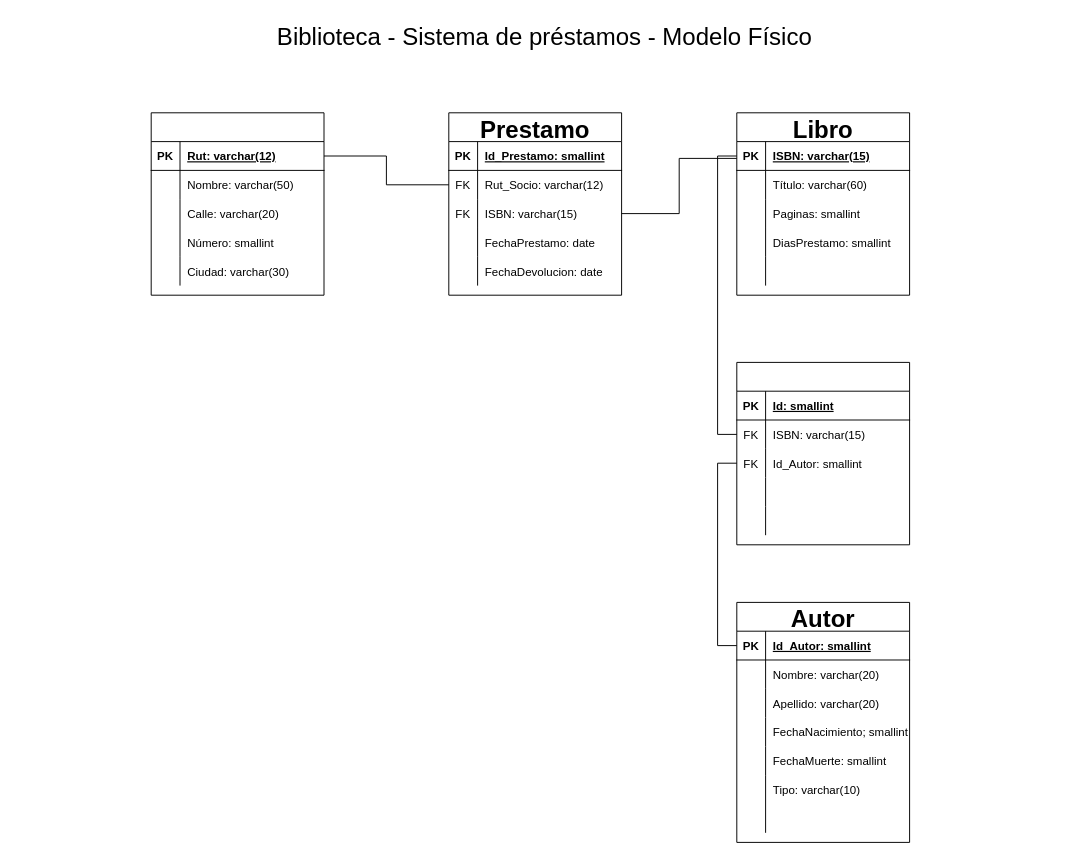
The diagram is 1089 pixels wide and 859 high, and some of its shapes have lost their labels. The box of each missing label's shape, as (x1, y1, x2, y2) in pixels:
AutorxLibro: (736, 361, 910, 545)
Socio: (150, 112, 324, 295)
